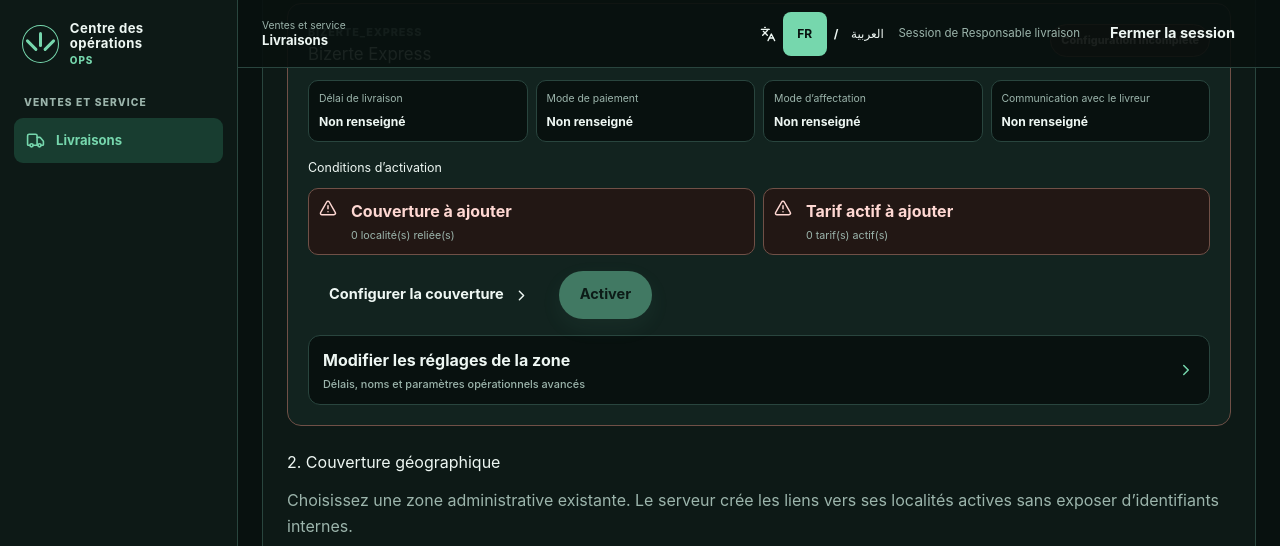
Test: administrator delivery configuration › applies and saves the exact Bizerte Express operational metadata
(page scrolled)
Click the text "Modifier les réglages de la zone" at (454, 361), box [323,348,585,374]
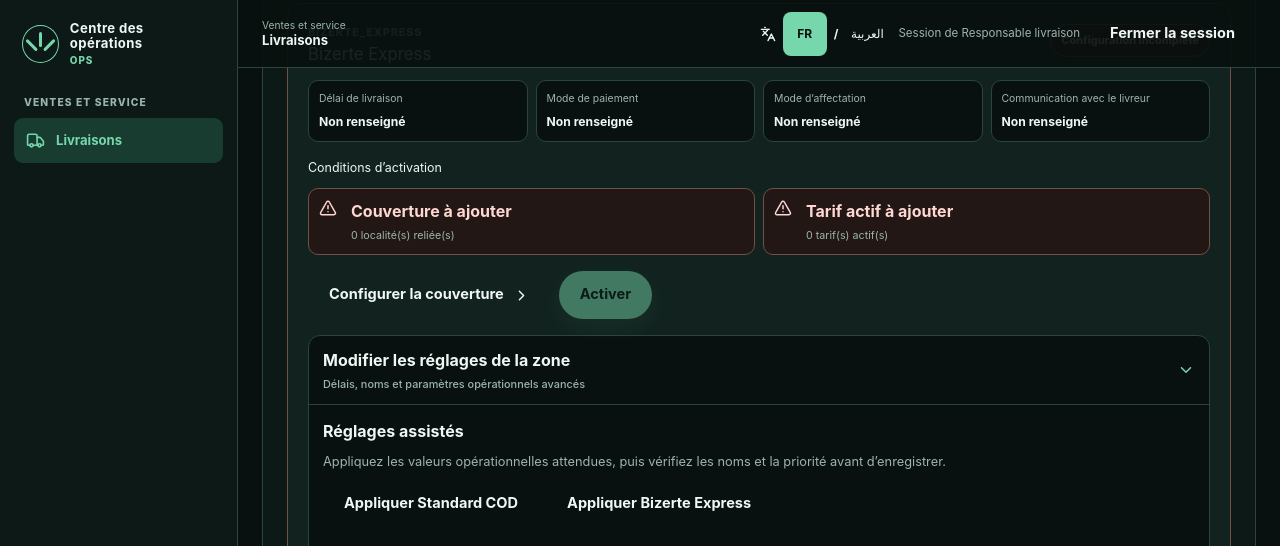
Click the button "Appliquer Bizerte Express" at (659, 504), box [546,480,772,528]
(page scrolled)
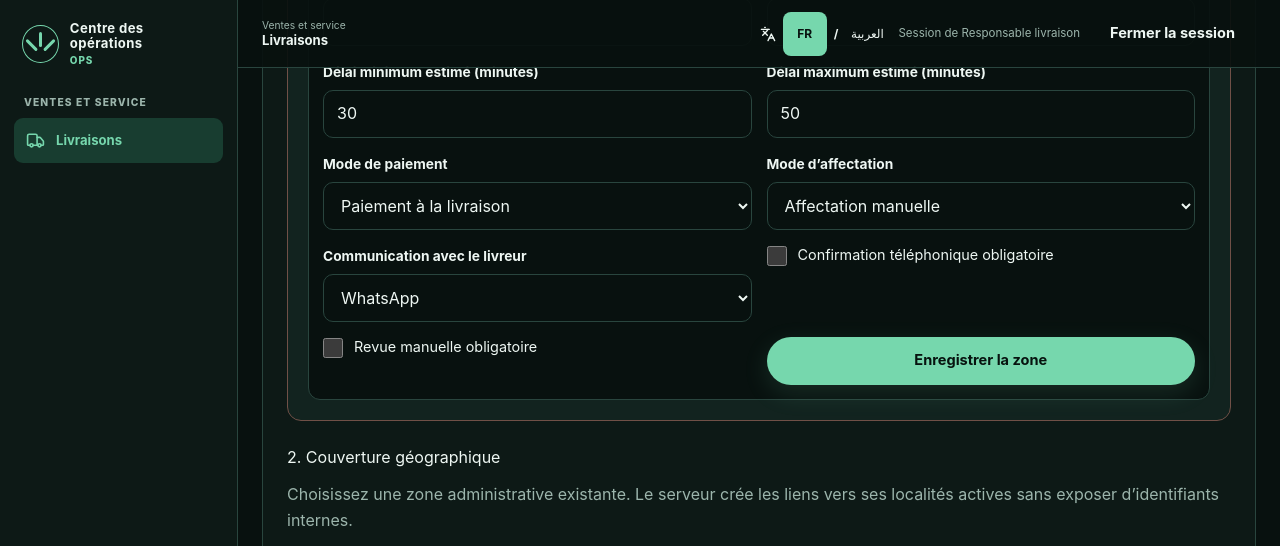
Expected: the number field labelled "Délai minimum estimé (minutes)" holds "30", [323,90,752,138]
Expected: the number field labelled "Délai maximum estimé (minutes)" holds "50", [766,90,1195,138]
Expected: the dropdown labelled "Mode de paiement" shows "Paiement à la livraison", [323,182,752,230]
Click the button "Enregistrer la zone" at (981, 360), box [766,336,1195,384]
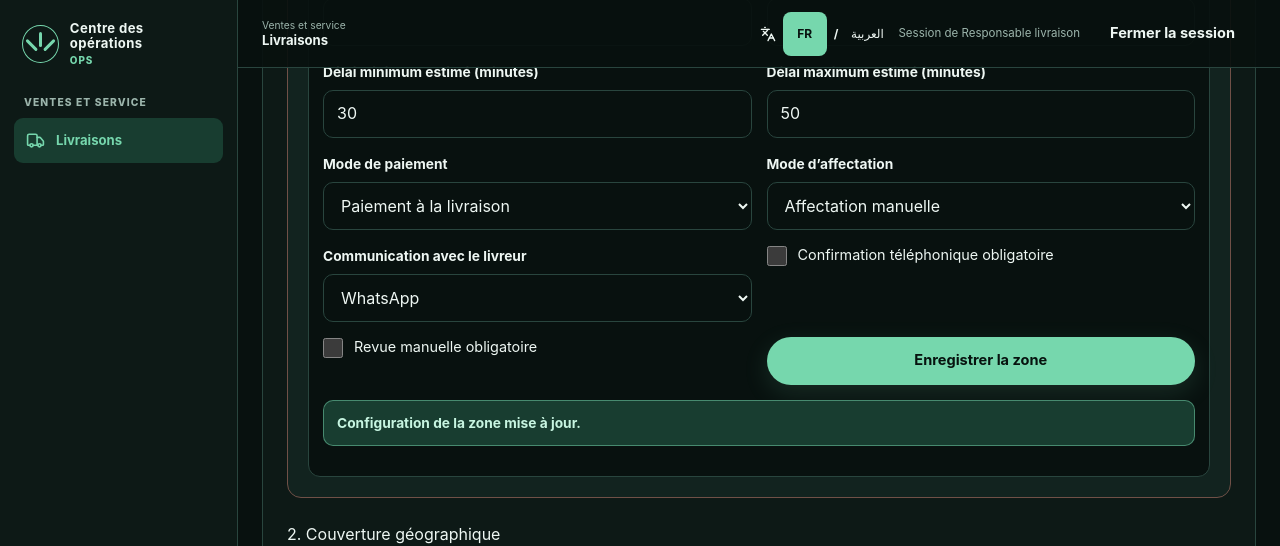
Expected: the text "Configuration de la zone mise à jour." is shown, [323,400,1195,446]
